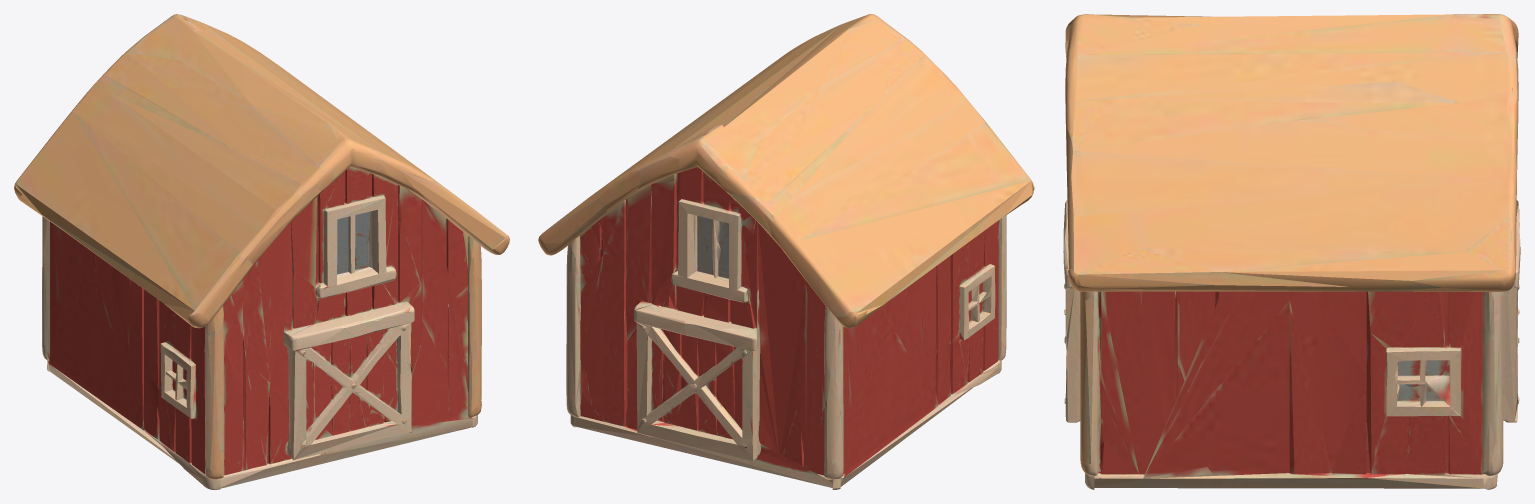
The model's file is barn.e09f6e01.glb.
3 renders of one model, left to right at view 1: azimuth 30°, elevation 25°; view 2: azimuth 150°, elevation 25°; view 3: azimuth 270°, elevation 25°, orthographic. The views are drawn at different scales.
Visible parts, largest first — view 1: body; view 2: body; view 3: body.
Part boxes in pixels (<box>): body: <box>14,14,509,489</box>; body: <box>538,14,1034,489</box>; body: <box>1063,14,1520,489</box>.
Size of the model in its own units: 1.9 by 1.82 by 1.9.
1 material, 1 textured.
